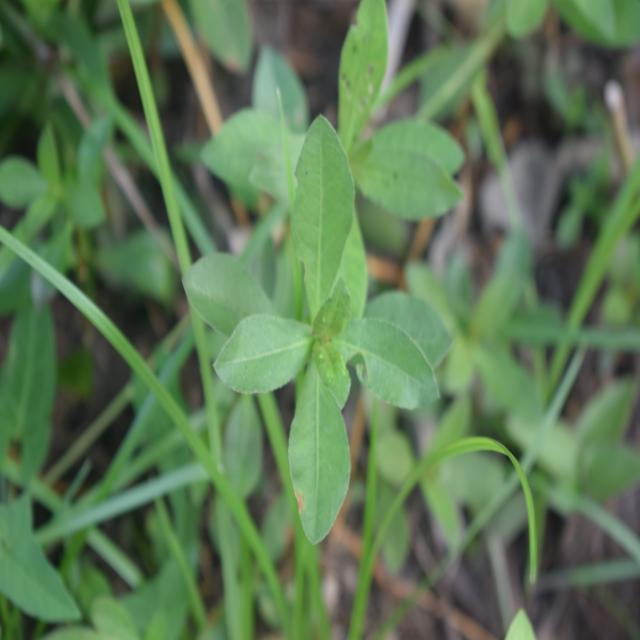Alligatorweed: (200, 124, 451, 510)
